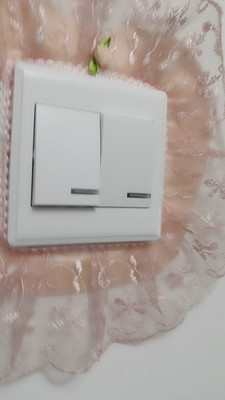switch: (33, 99, 99, 207), (100, 111, 155, 211)
